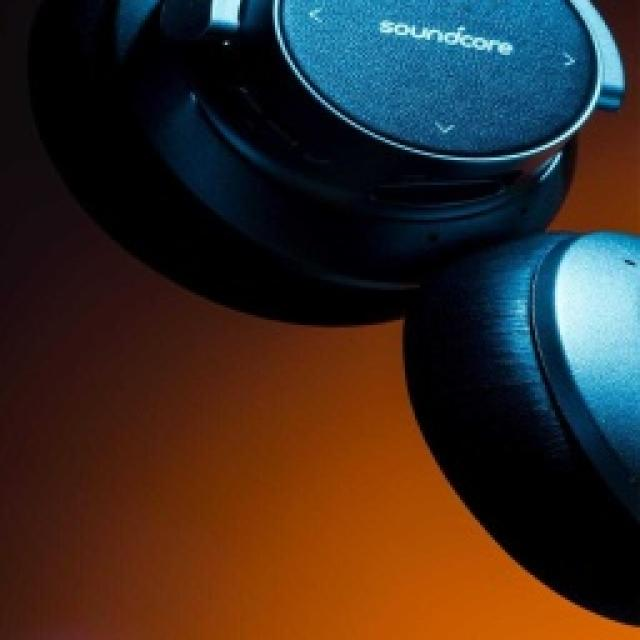headphones: (25, 0, 637, 630)
